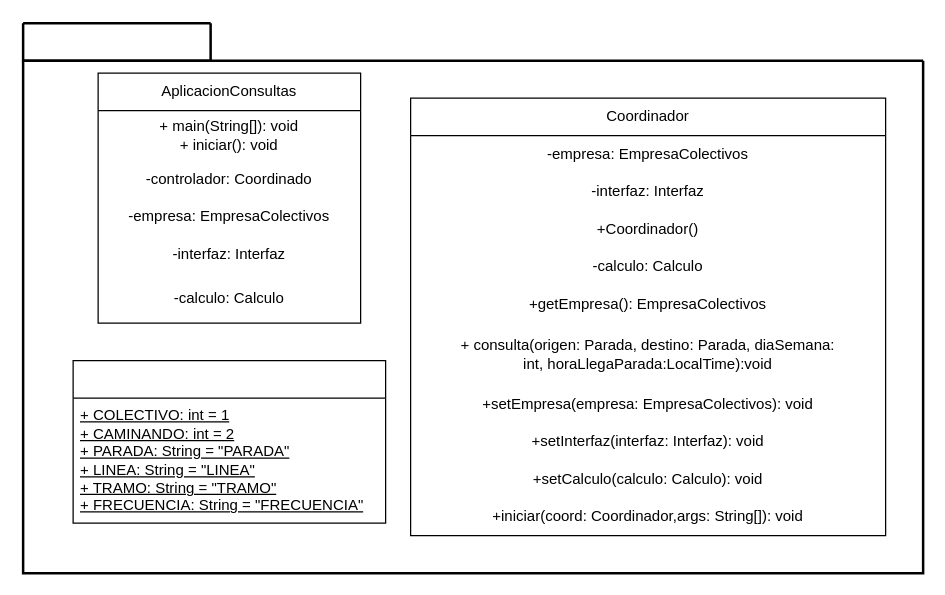
The diagram is 945 pixels wide and 595 high, and some of its shapes have lost their labels. Each missing label, with the box of its shape:
Constantes: (72, 359, 386, 523)
Controlador: (21, 21, 211, 61)
